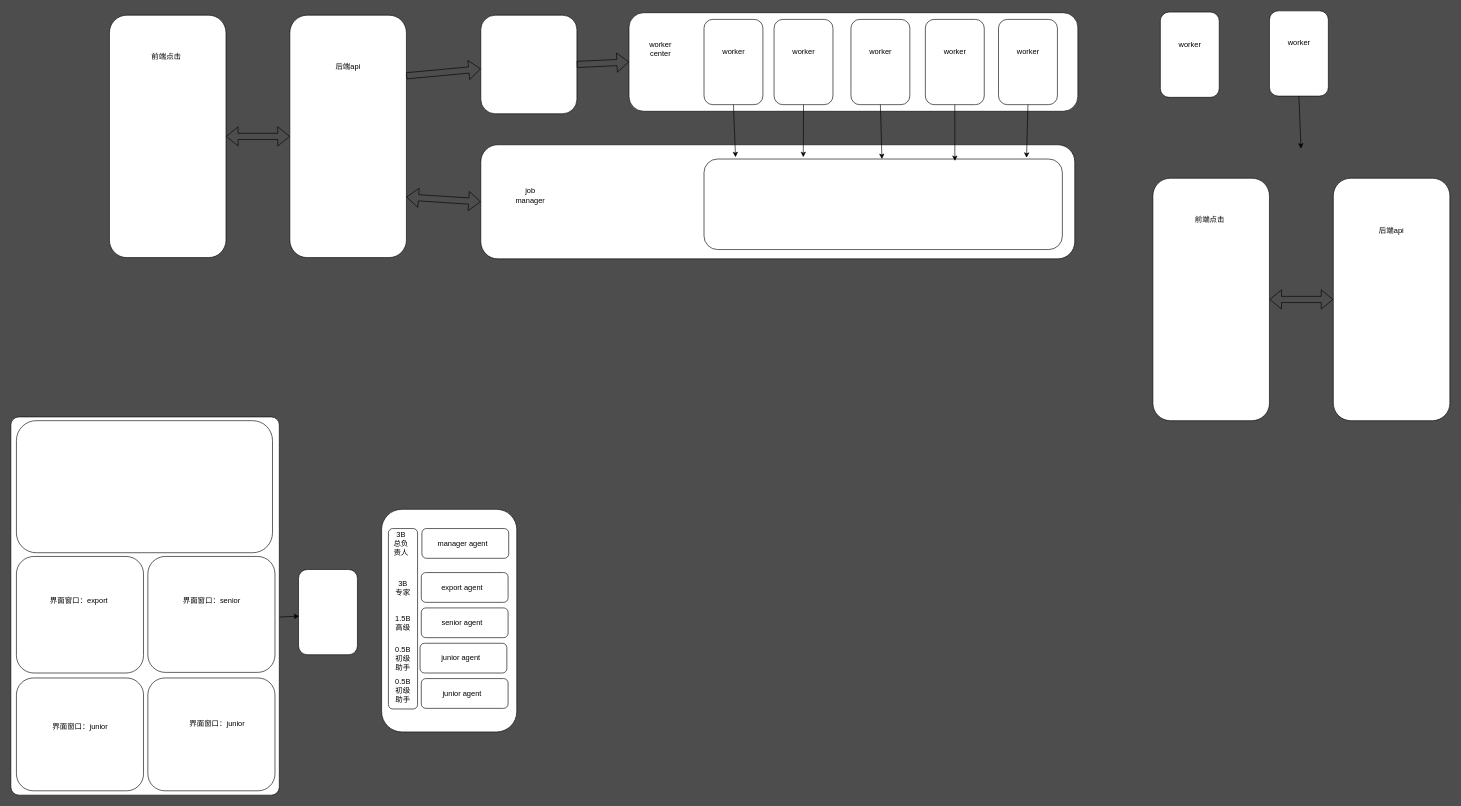
The diagram is 1461 pixels wide and 806 high, and some of its shapes have lost their labels. The centre of each missing label's shape, as x and y in pixels:
"manager" goes at [528,64].
"作业状态管理" goes at [882,204].
"入口文件 factory 工厂函数" goes at [327,612].
"界面窗口：manager/parter" goes at [144,486].
